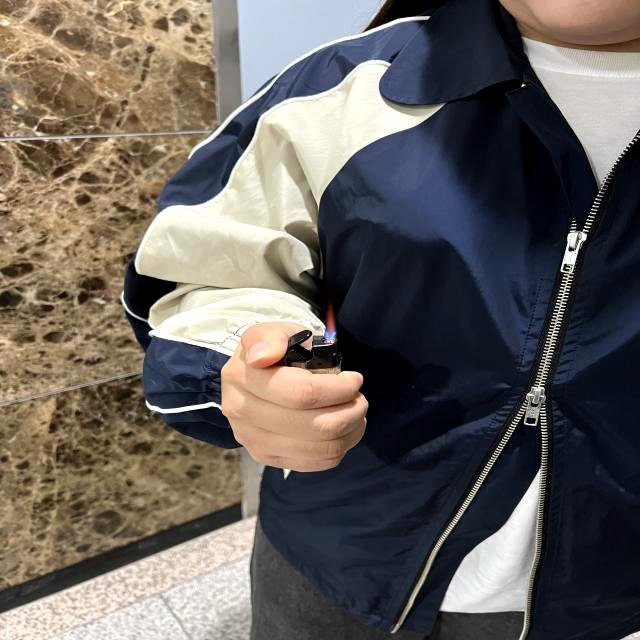fire: (324, 302, 341, 342)
